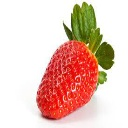strawberry: (36, 6, 113, 120)
